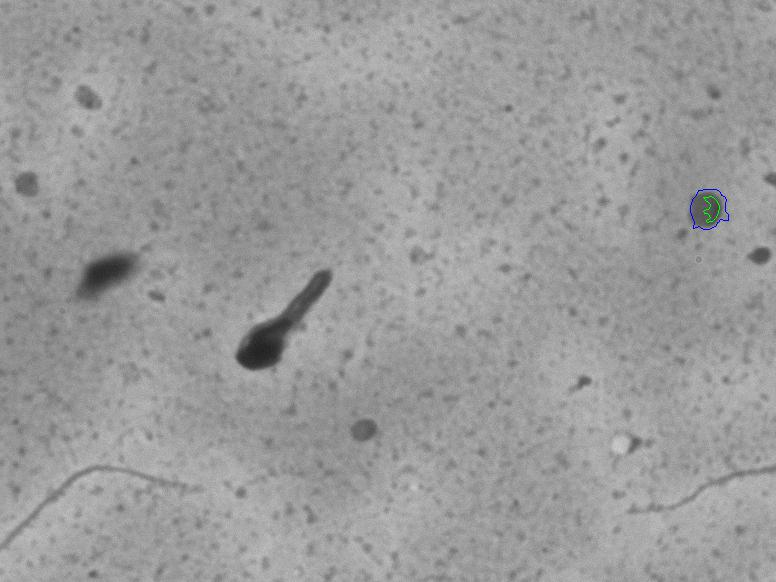Abnormal: (193, 235, 356, 408)
